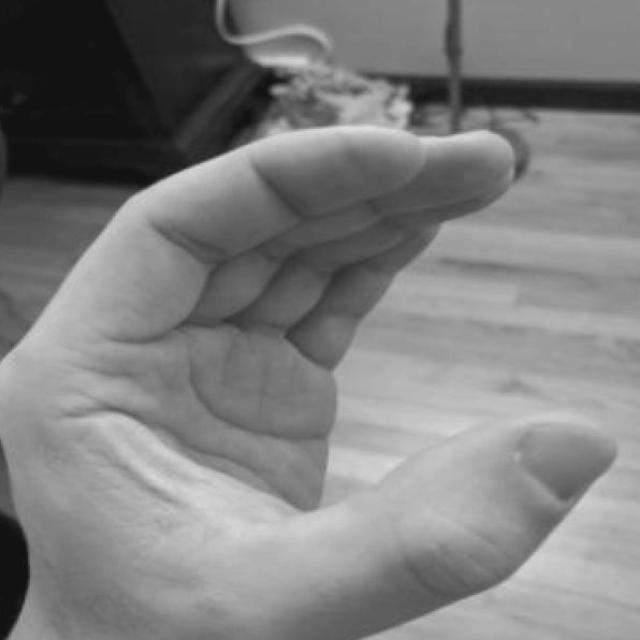C: (0, 89, 626, 640)
